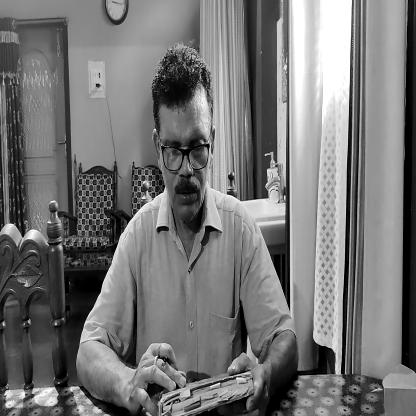Normal: (151, 50, 213, 223)
